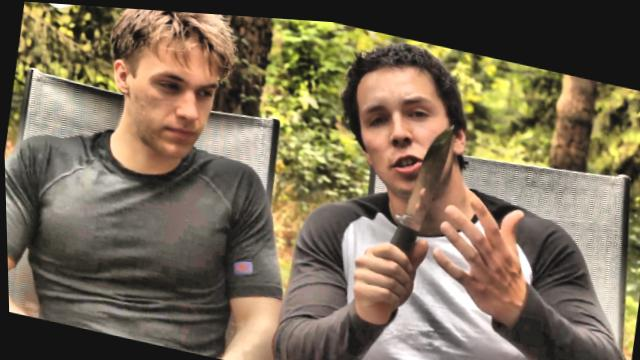knife: (347, 93, 462, 314)
